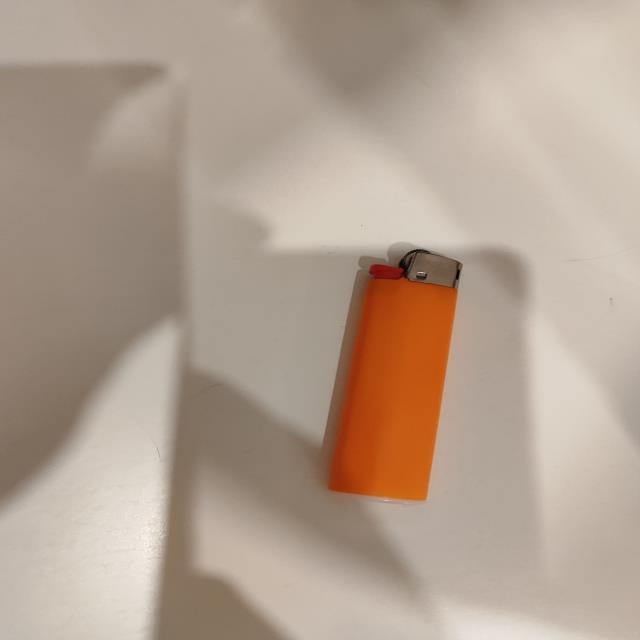lighter: (326, 249, 461, 500)
